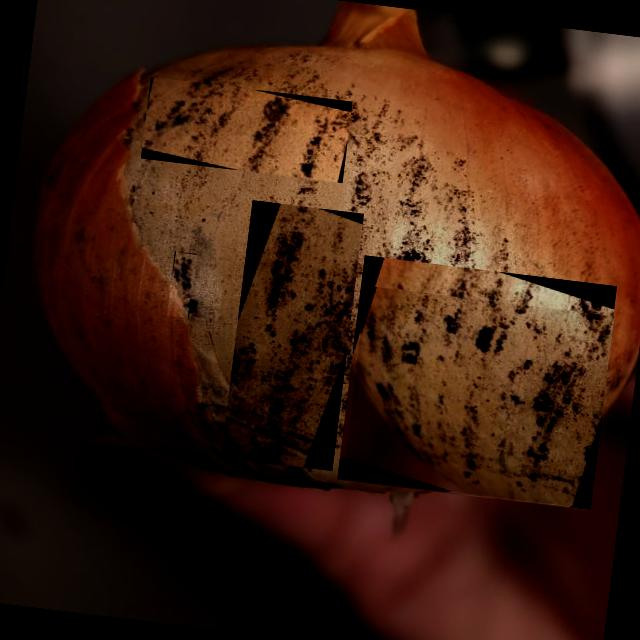mould: (361, 316, 613, 498), (220, 200, 364, 470), (140, 76, 352, 182), (166, 251, 196, 318)
